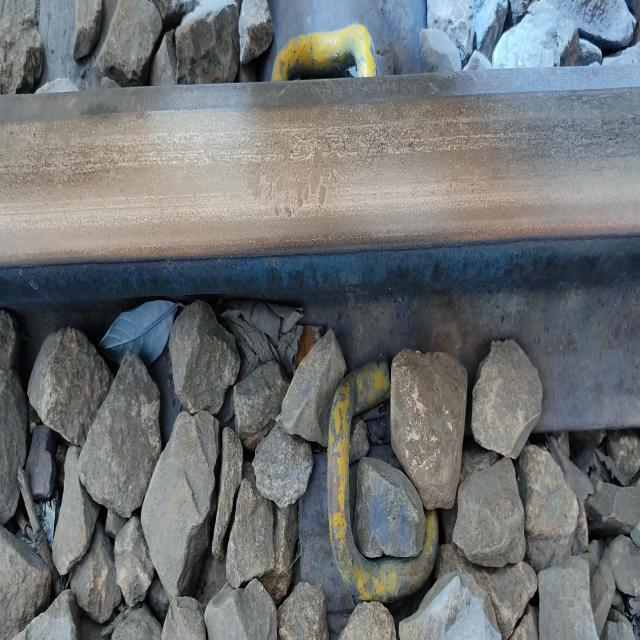Good Fasteners: (299, 357, 439, 616), (272, 24, 377, 81)
